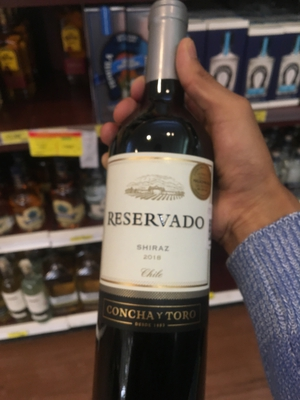reservado shiraz: (90, 36, 217, 400)
